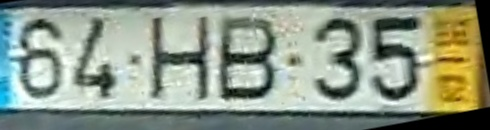3: (311, 14, 365, 104)
4: (70, 16, 120, 101)
5: (369, 16, 422, 105)
6: (15, 16, 66, 104)
B: (219, 15, 278, 101)
H: (148, 14, 211, 103)
